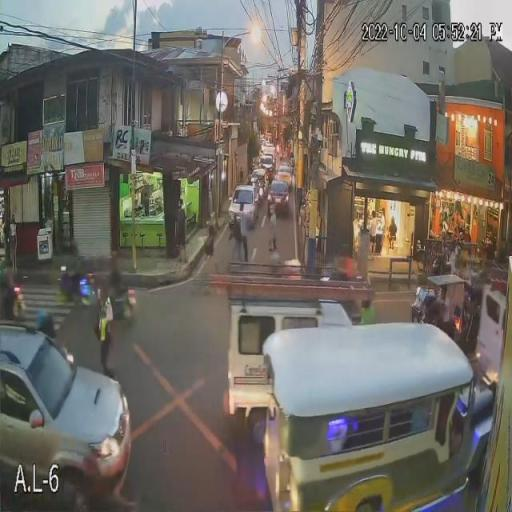helmet: (108, 250, 118, 264)
motorcycle: (111, 287, 139, 320)
rider: (104, 272, 124, 298)
